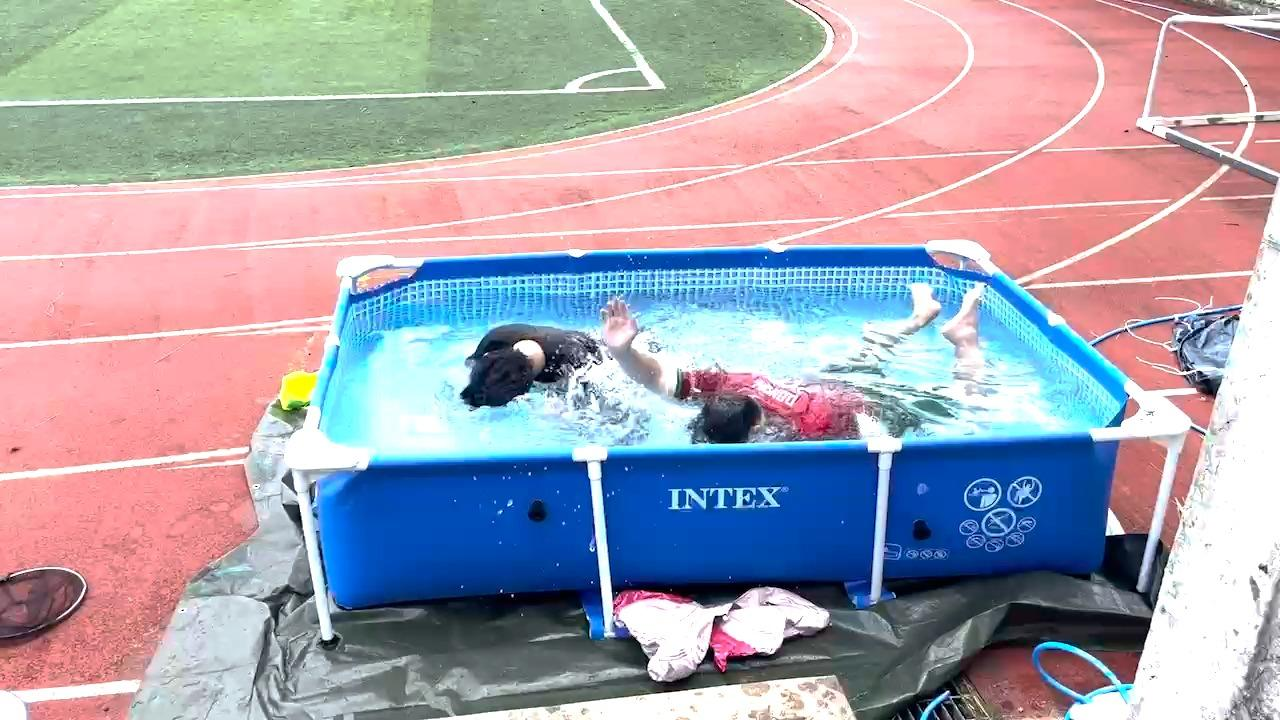Drowning: (591, 291, 1000, 439), (435, 298, 589, 396)
